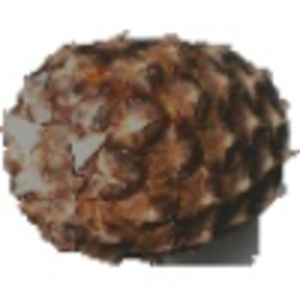abacaxi: (3, 28, 290, 277)
